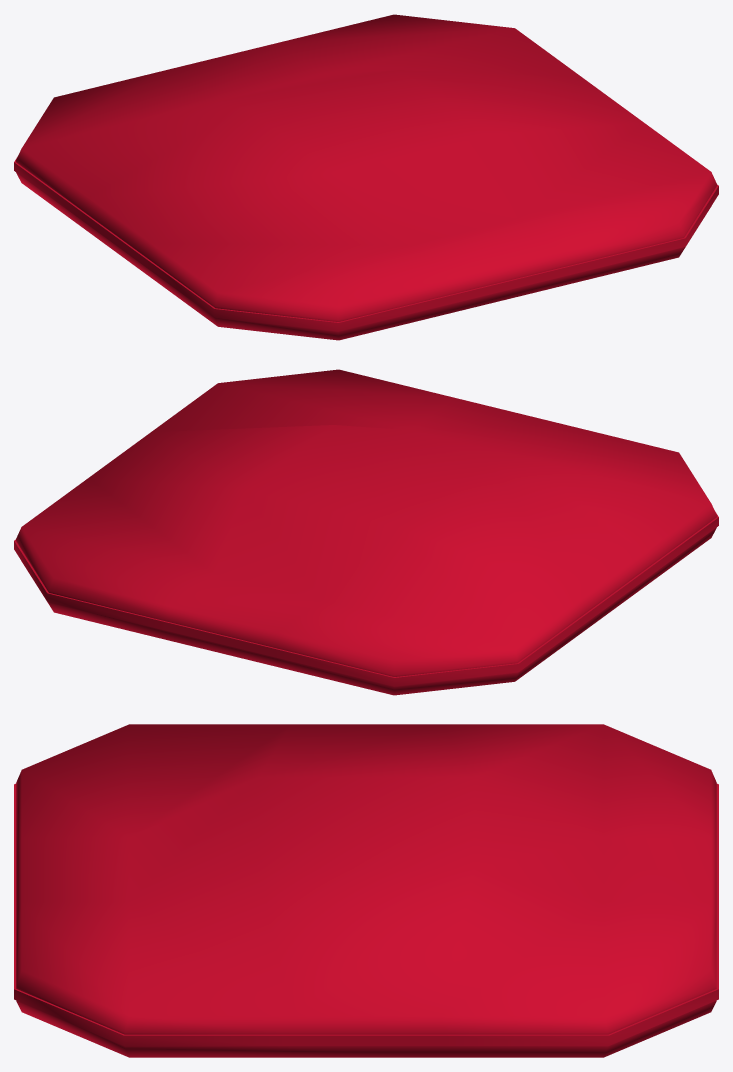
The model's file is NewGenTest.fbx.
3 renders of one model, top to bottom at view 1: azimuth 30°, elevation 25°; view 2: azimuth 150°, elevation 25°; view 3: azimuth 270°, elevation 25°, orthographic. The views are drawn at different scales.
Parts seen in each view (by area): view 1: Polygon; view 2: Polygon; view 3: Polygon.
Part boxes in pixels (x1=…): Polygon: x1=14, y1=14, x2=718, y2=340; Polygon: x1=14, y1=369, x2=718, y2=695; Polygon: x1=14, y1=724, x2=718, y2=1057.
Bounding box in the file's own units: 9351 × 1297 × 9351.
